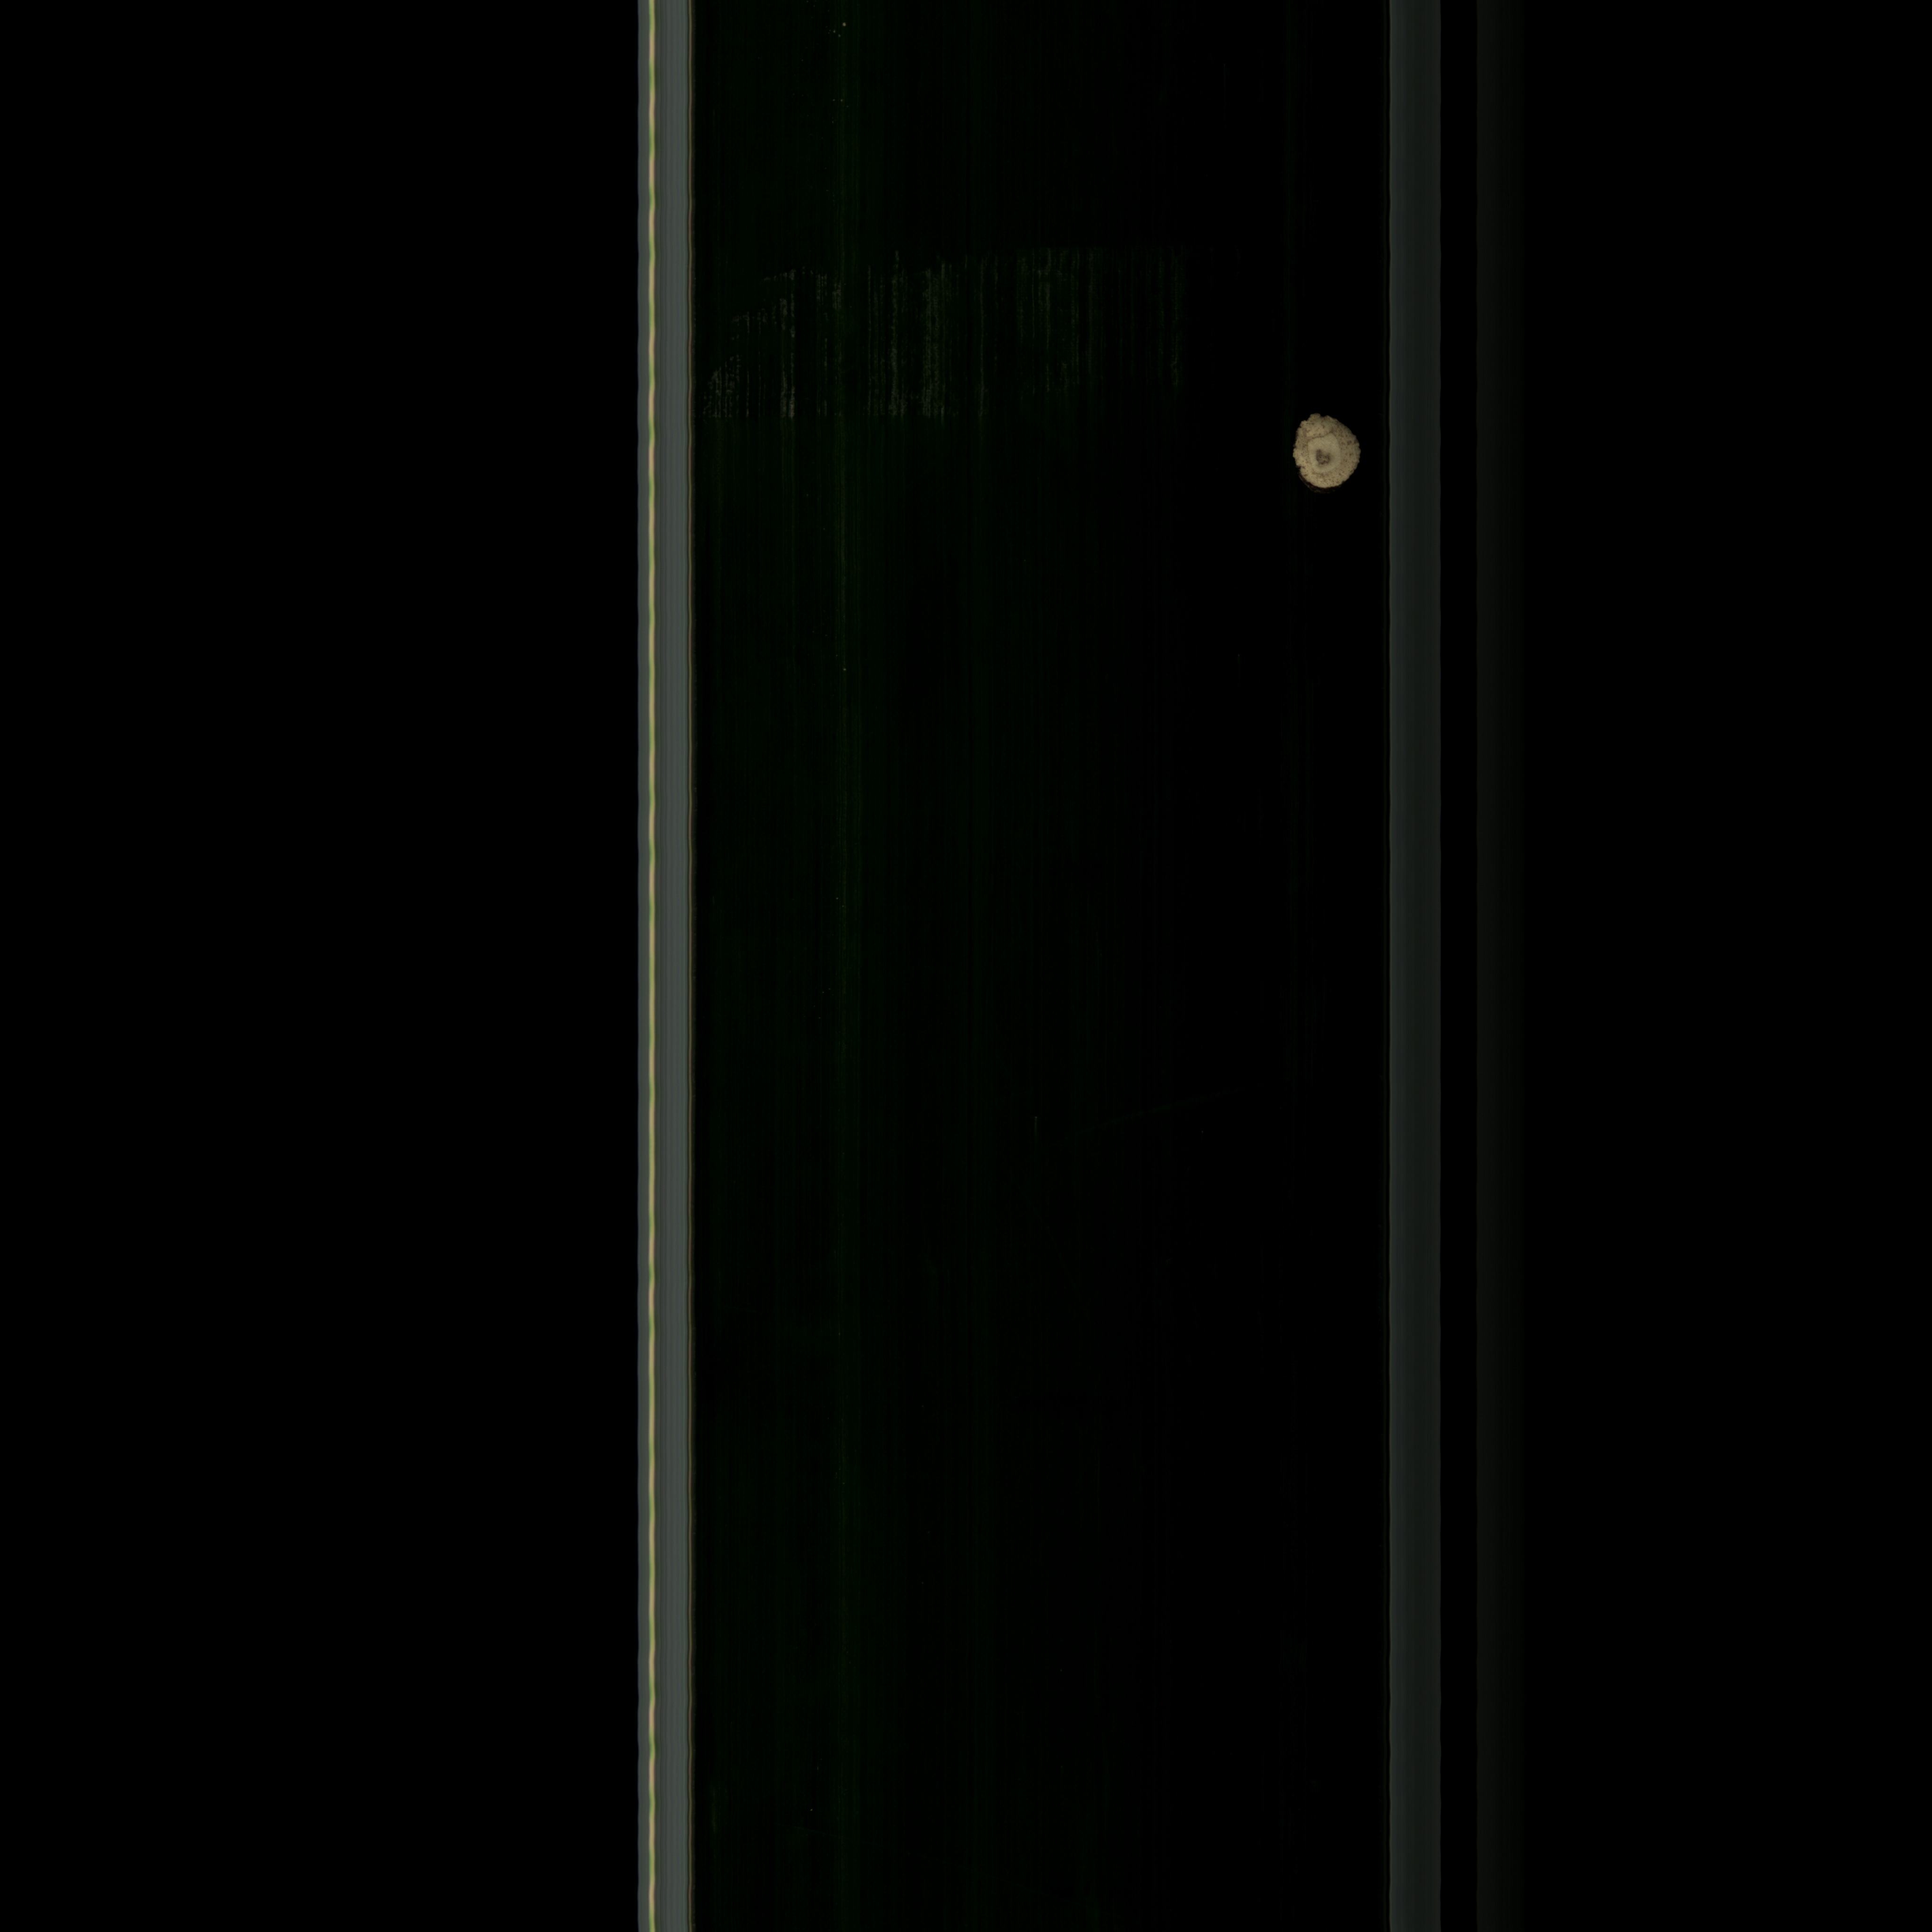moldy: (1272, 409, 1371, 499)
